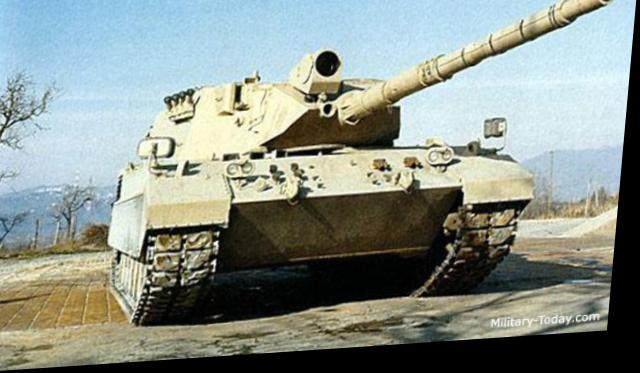tank: (103, 46, 558, 334)
